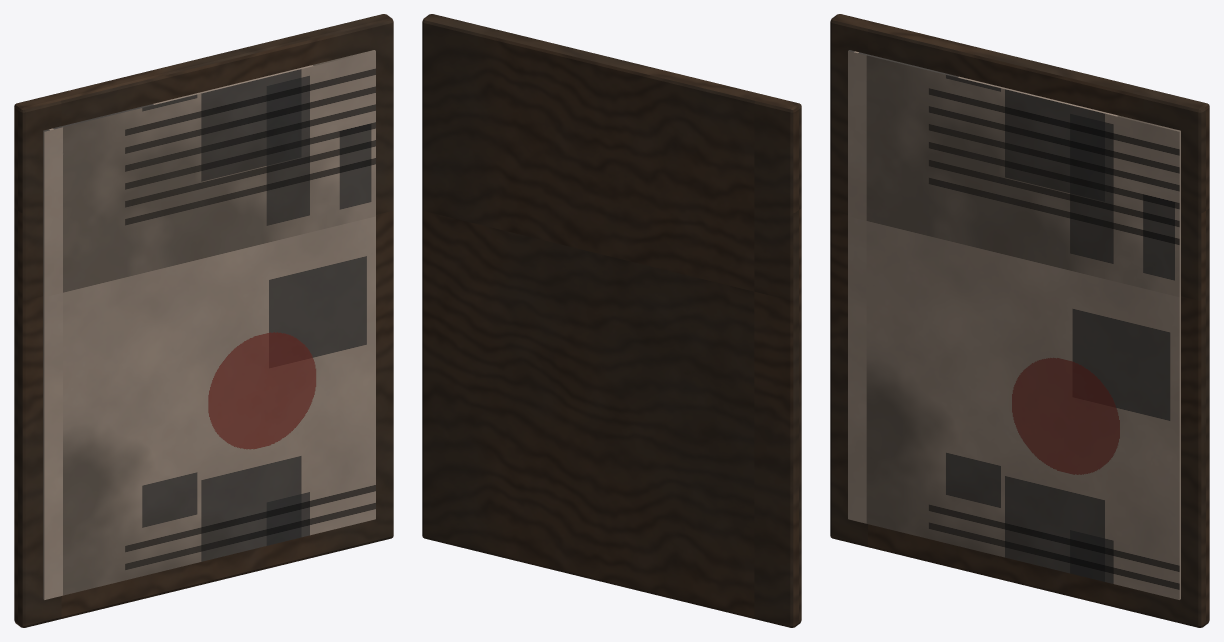
Rendered from F37_warning_poster_v3.glb.
3 renders of one model, left to right at view 1: azimuth 30°, elevation 25°; view 2: azimuth 150°, elevation 25°; view 3: azimuth 330°, elevation 25°, orthographic.
Visible parts, largest first — view 1: F37_warning_poster_v3; view 2: F37_warning_poster_v3; view 3: F37_warning_poster_v3.
Boxes of the visible parts, box(x1,y1,x2,y2) form: F37_warning_poster_v3: box(14, 14, 393, 627); F37_warning_poster_v3: box(422, 14, 801, 627); F37_warning_poster_v3: box(830, 14, 1209, 627).
Size of the model in its own units: 0.45 by 0.6 by 0.023.
2 materials, 2 textured.
